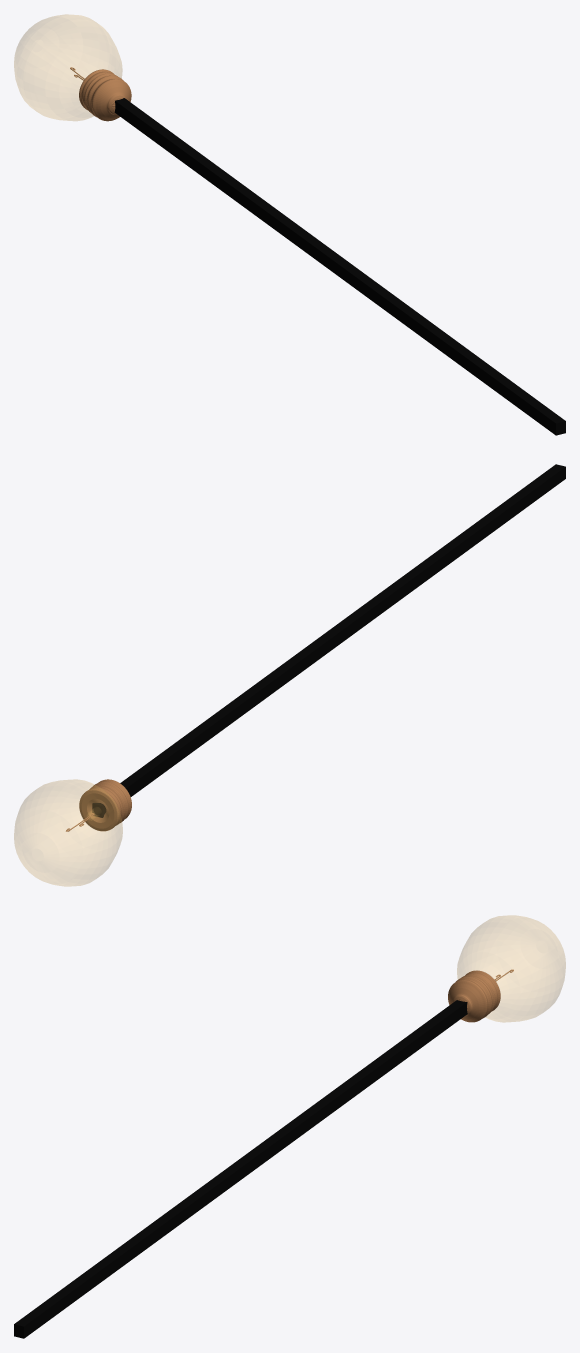
Rendered from lamp.glb.
3 renders of one model, top to bottom at view 1: azimuth 30°, elevation 25°; view 2: azimuth 150°, elevation 25°; view 3: azimuth 330°, elevation 25°, orthographic.
Visible parts, largest first — view 1: Cube, node_1, node_0; view 2: Cube, node_1, node_0; view 3: Cube, node_1, node_0.
Part boxes in pixels (x1,y1,x2,y2): Cube: (114,98,565,435); node_1: (14,14,122,120); node_0: (79,69,131,121); Cube: (92,464,565,817); node_1: (14,779,122,886); node_0: (79,779,131,831); Cube: (14,1000,467,1338); node_1: (457,915,565,1022); node_0: (448,970,500,1022).
Bounding box in the file's own units: 3.89 × 3.89 × 37.78.
